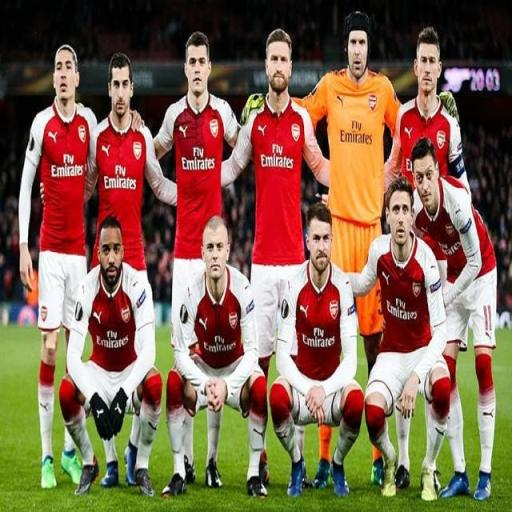Emirates: (257, 141, 295, 172), (103, 161, 137, 191), (338, 118, 373, 147), (51, 152, 84, 181), (384, 296, 418, 324), (181, 146, 216, 172), (300, 325, 336, 350), (95, 328, 129, 351), (202, 334, 236, 354)
